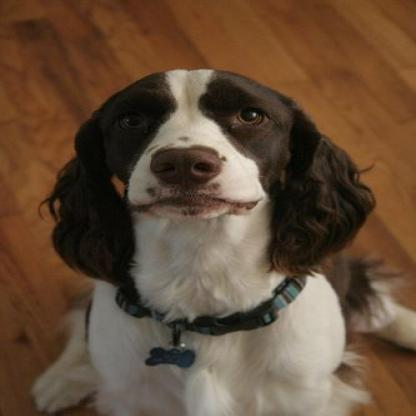English_springer: (25, 66, 412, 414)
